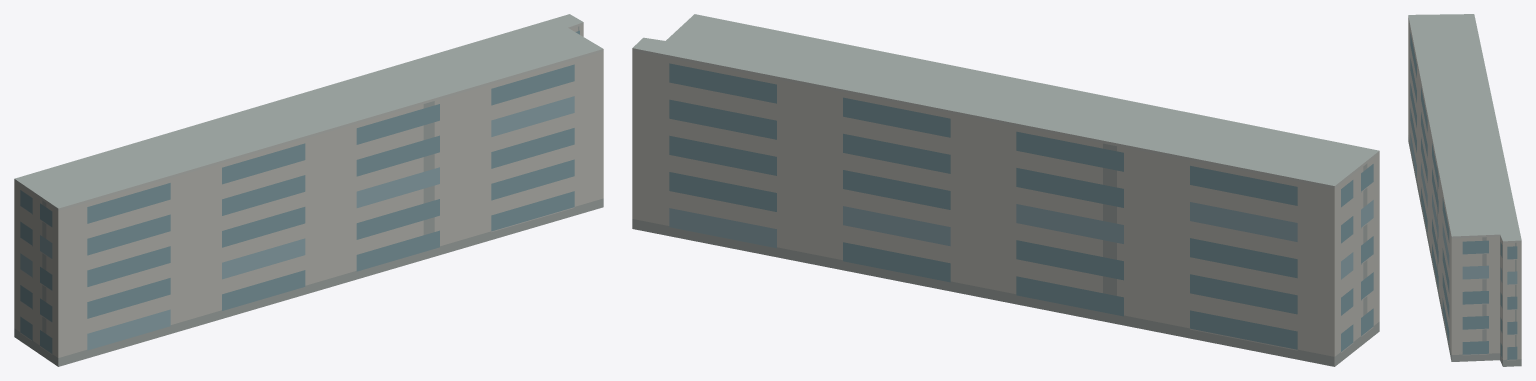
File: survey-upis-32459282.glb
The picture shows the model from 3 angles, left to right: view 1: azimuth 30°, elevation 25°; view 2: azimuth 150°, elevation 25°; view 3: azimuth 270°, elevation 25°; orthographic projection. The views are drawn at different scales.
Parts seen in each view (by area): view 1: survey-upis-32459282.tmp; view 2: survey-upis-32459282.tmp; view 3: survey-upis-32459282.tmp.
Part boxes in pixels (<box>): survey-upis-32459282.tmp: <box>14,14,603,366</box>; survey-upis-32459282.tmp: <box>632,14,1379,366</box>; survey-upis-32459282.tmp: <box>1408,14,1521,366</box>.
Size of the model in its own units: 59.22 by 15.25 by 12.51.
